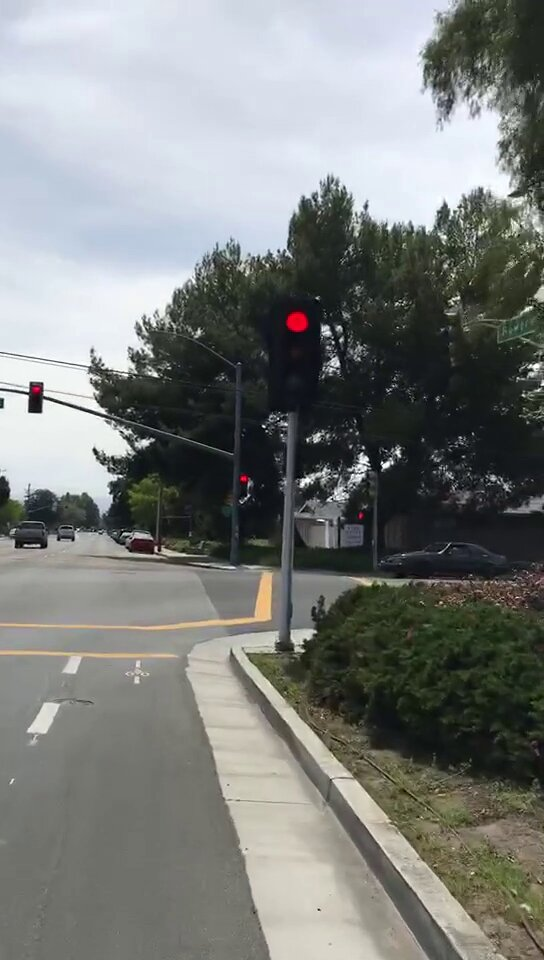red_light: (274, 306, 316, 398), (30, 382, 43, 409), (236, 472, 248, 496)
